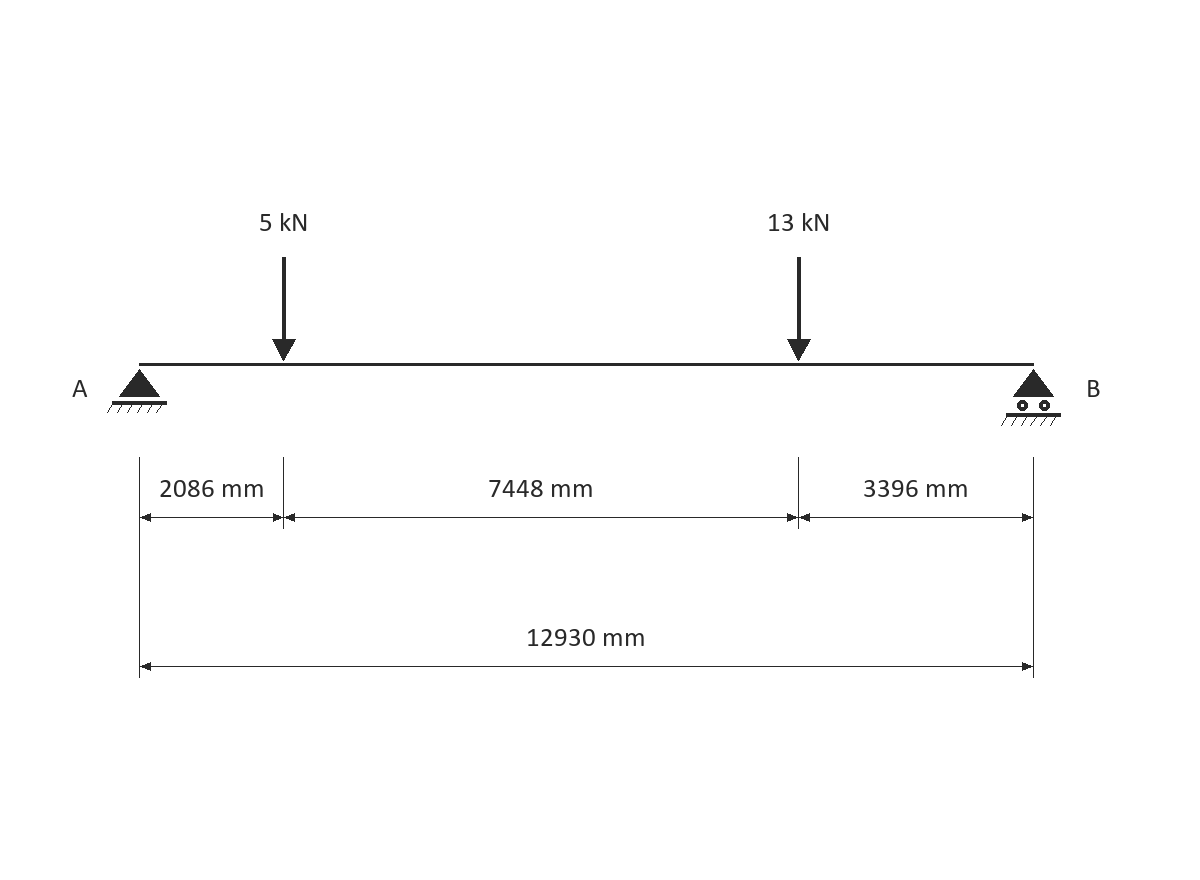pin_support: (107, 369, 167, 413)
point_load: (272, 257, 296, 361), (787, 257, 811, 361)
roller_support: (1001, 369, 1061, 426)
